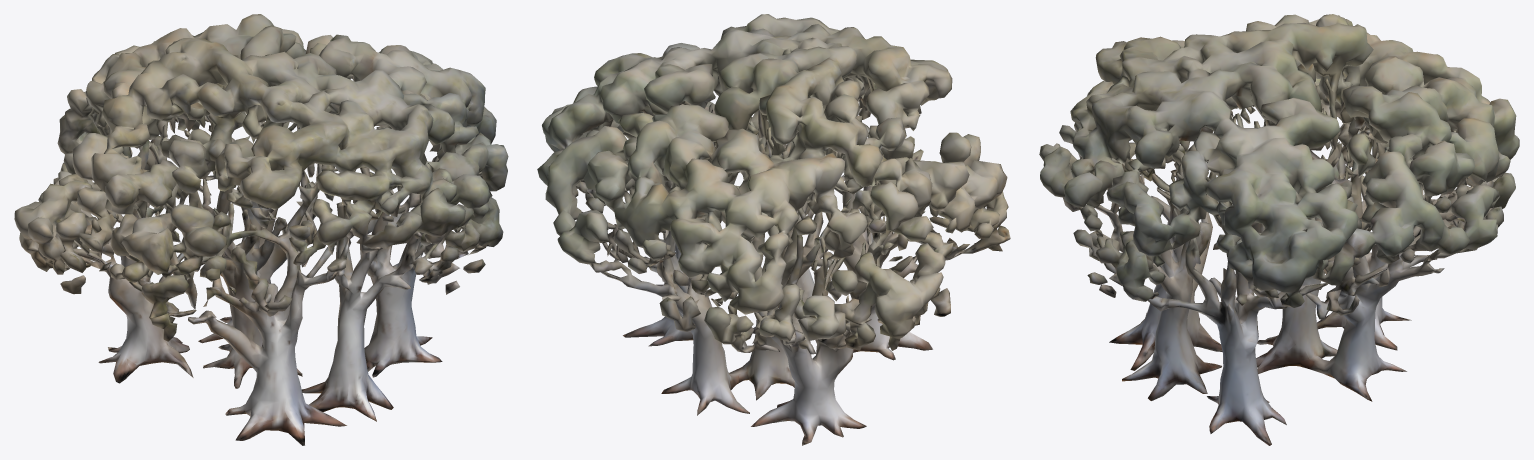
File: AI_GhostGum03.fbx
3 views of the same model, side by side, from view 1: azimuth 30°, elevation 25°; view 2: azimuth 150°, elevation 25°; view 3: azimuth 270°, elevation 25° (orthographic). The views are drawn at different scales.
Visible parts, largest first — view 1: Mesh1.0; view 2: Mesh1.0; view 3: Mesh1.0.
Part boxes in pixels (box(x1,y1,x2,y2)): Mesh1.0: box(14, 14, 508, 445); Mesh1.0: box(537, 14, 1010, 445); Mesh1.0: box(1039, 14, 1519, 445).
Size of the model in its own units: 199 by 146 by 192.
1 material, 1 textured.
